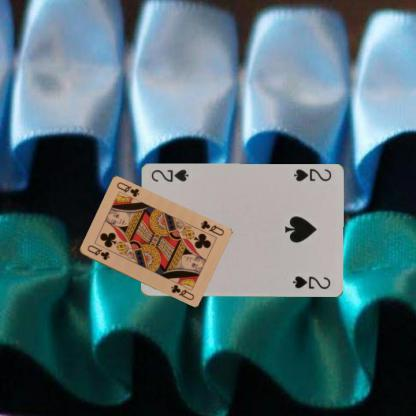2s: (291, 166, 332, 182)
Qc: (84, 242, 110, 262), (198, 218, 224, 237)
